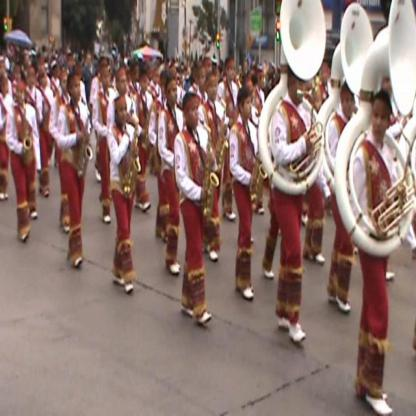face: (380, 67, 394, 104), (375, 105, 388, 141), (294, 76, 306, 104), (189, 102, 200, 127), (344, 94, 355, 116), (72, 80, 82, 101), (243, 99, 253, 118), (119, 104, 128, 125), (171, 88, 179, 103), (120, 77, 127, 94), (1, 61, 7, 80), (211, 84, 218, 100), (18, 88, 25, 103), (63, 79, 70, 93), (322, 69, 328, 85), (40, 71, 47, 84), (104, 72, 110, 87), (230, 65, 236, 80), (30, 71, 36, 84), (16, 71, 22, 83), (201, 74, 206, 87), (143, 79, 148, 92), (217, 72, 221, 86), (69, 59, 74, 70), (155, 74, 160, 84), (63, 67, 67, 78), (88, 57, 92, 67)
